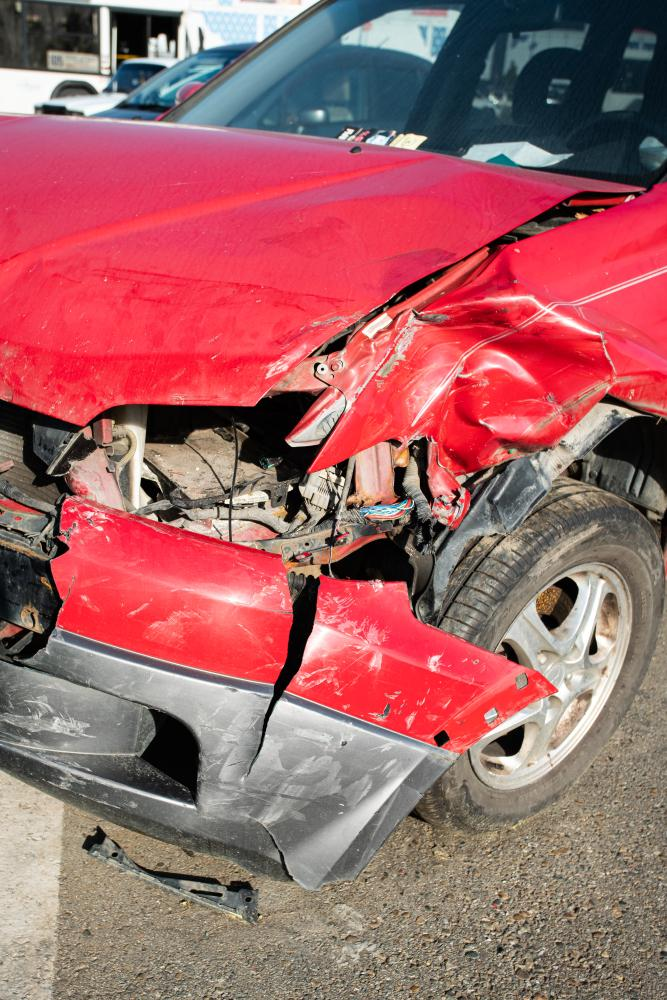crack: (245, 557, 321, 780), (250, 818, 295, 881)
dent: (39, 172, 557, 353), (350, 298, 609, 454)
scratch: (201, 705, 363, 822), (131, 564, 282, 648), (302, 594, 400, 692), (0, 697, 95, 744)
